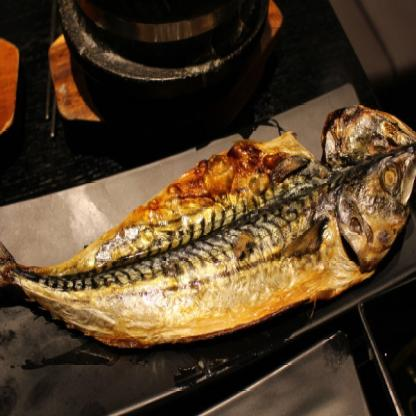Peixe: (0, 91, 416, 376)
